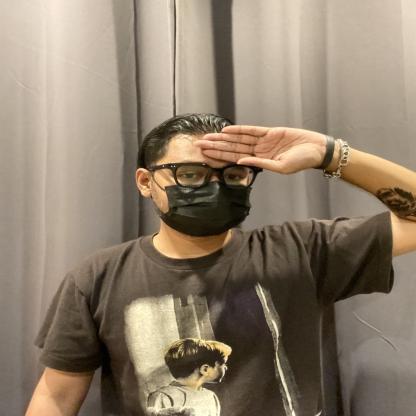Sick: (76, 110, 357, 230)
